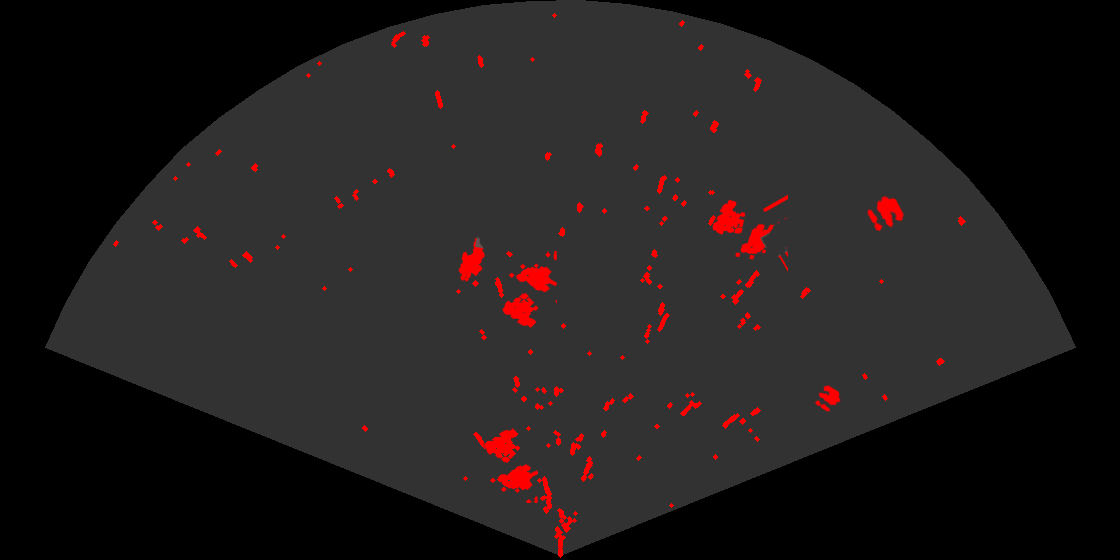AUV: (457, 236, 486, 283)
ball: (866, 194, 905, 233), (813, 384, 842, 413)
cage: (711, 193, 788, 273), (501, 251, 557, 330), (483, 427, 538, 503)
